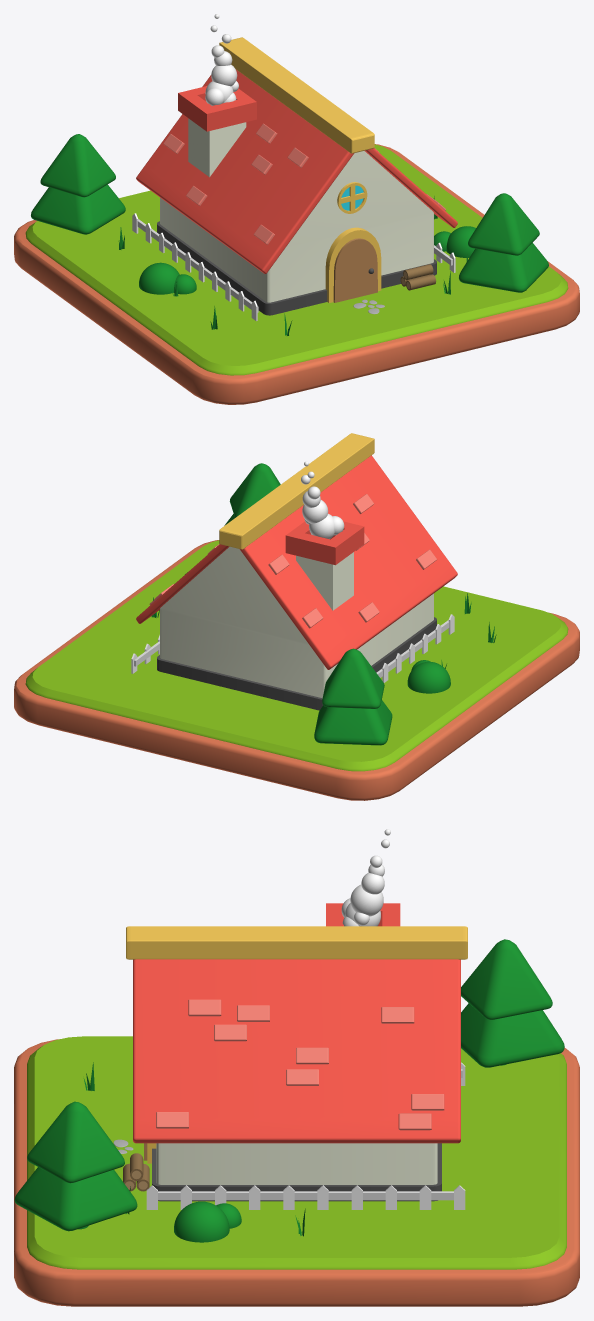
File: House.fbx
3 views of the same model, one above another, from view 1: azimuth 30°, elevation 25°; view 2: azimuth 150°, elevation 25°; view 3: azimuth 270°, elevation 25° (orthographic). The views are drawn at different scales.
Visible parts, largest first — view 1: Plane.001, Plane.003, Plane, Plane.002, Cylinder.004, Cylinder.003, Plane.006, Cube, Plane.005, Icosphere.012, Icosphere.001, Plane.004 (+5 smaller); view 2: Plane.001, Plane.002, Plane.003, Plane, Cylinder.004, Plane.006, Cube, Icosphere.012, Cylinder.003, Icosphere.001, Plane.007; view 3: Plane.001, Plane.003, Plane, Plane.002, Plane.006, Cylinder.003, Cylinder.004, Plane.009, Icosphere.003, Icosphere.012, Plane.010, Cube (+3 smaller).
Part boxes in pixels (x1,y1,x2,y2): Plane.001: (25, 144, 568, 375); Plane.003: (136, 69, 457, 273); Plane: (14, 144, 579, 404); Plane.002: (157, 151, 436, 315); Cylinder.004: (31, 134, 125, 234); Cylinder.003: (459, 193, 548, 292); Plane.006: (219, 37, 374, 153); Cube: (178, 86, 256, 177); Plane.005: (333, 238, 377, 302); Icosphere.012: (205, 14, 238, 105); Icosphere.001: (139, 262, 196, 294); Plane.004: (325, 227, 381, 302); Plane.001: (25, 540, 568, 771); Plane.002: (157, 546, 436, 710); Plane.003: (136, 455, 457, 669); Plane: (14, 540, 579, 800); Cylinder.004: (314, 648, 392, 745); Plane.006: (219, 433, 374, 549); Cube: (285, 521, 364, 610); Icosphere.012: (301, 461, 344, 539); Cylinder.003: (224, 463, 280, 525); Icosphere.001: (407, 660, 450, 693); Plane.007: (382, 614, 454, 682); Plane.001: (27, 1036, 566, 1269); Plane.003: (133, 959, 460, 1143); Plane: (14, 1039, 579, 1306); Plane.002: (152, 1143, 441, 1201); Plane.006: (126, 926, 467, 959); Cylinder.003: (14, 1101, 137, 1231); Cylinder.004: (461, 939, 564, 1067); Plane.009: (146, 1185, 465, 1209); Icosphere.003: (174, 1201, 241, 1242); Icosphere.012: (341, 829, 390, 926); Plane.010: (158, 1191, 453, 1200); Cube: (326, 903, 400, 926).
Bounding box in the file's own units: 2000 × 1293 × 2000.
